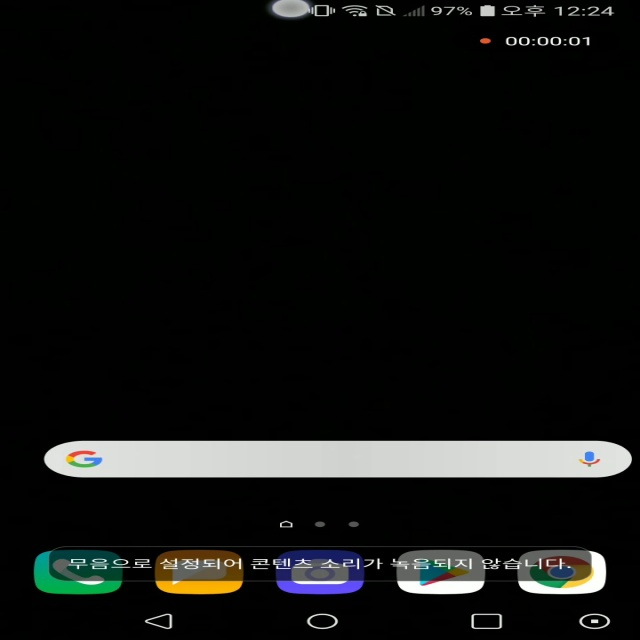Cursor: (270, 1, 312, 19)
